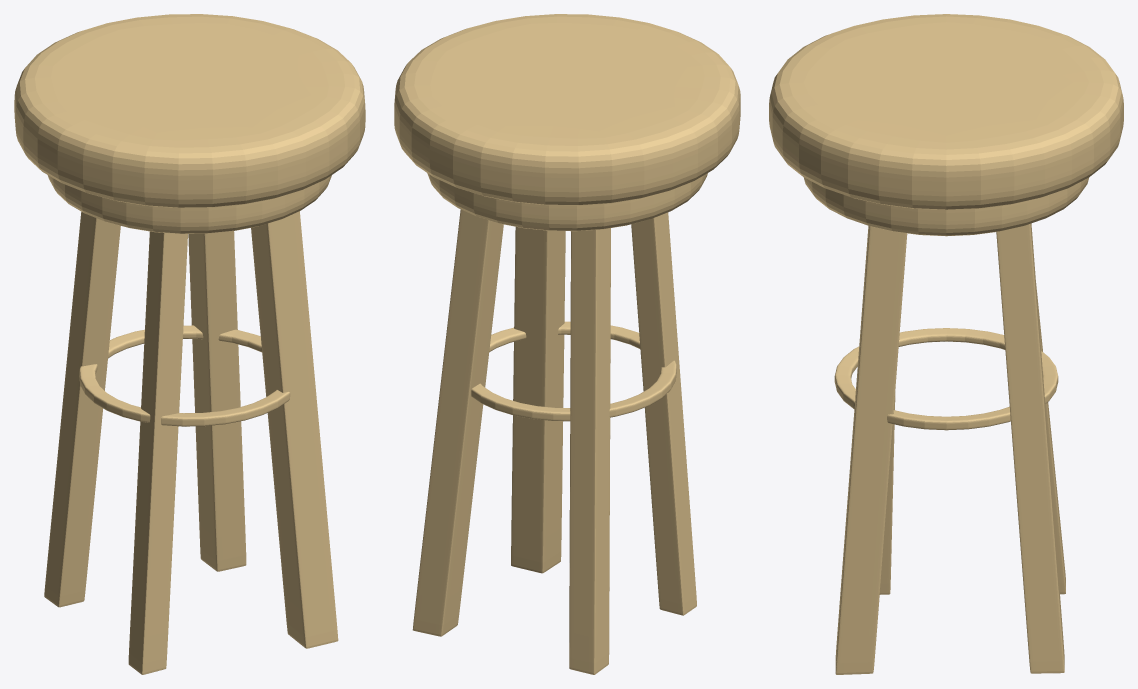
Rendered from chair04.fbx.
The picture shows the model from 3 angles, left to right: view 1: azimuth 30°, elevation 25°; view 2: azimuth 150°, elevation 25°; view 3: azimuth 270°, elevation 25°; orthographic projection. The views are drawn at different scales.
Visible parts, largest first — view 1: Cylinder.002, Cube.012, Cube.013, Cube.010, Cube.011, Cylinder.003, Cylinder.004; view 2: Cylinder.002, Cube.011, Cube.010, Cube.012, Cube.013, Cylinder.003, Cylinder.004; view 3: Cylinder.002, Cube.012, Cube.011, Cylinder.003, Cylinder.004, Cube.010, Cube.013.
Part boxes in pixels (bbox=[...]): Cylinder.002: bbox=[14, 14, 365, 207]; Cube.012: bbox=[251, 211, 338, 648]; Cube.013: bbox=[128, 231, 187, 674]; Cube.010: bbox=[44, 212, 120, 607]; Cube.011: bbox=[188, 231, 246, 571]; Cylinder.003: bbox=[47, 175, 331, 233]; Cylinder.004: bbox=[79, 325, 290, 426]; Cylinder.002: bbox=[394, 14, 740, 205]; Cube.011: bbox=[412, 209, 503, 636]; Cube.010: bbox=[569, 228, 610, 674]; Cube.012: bbox=[511, 227, 565, 573]; Cube.013: bbox=[631, 212, 696, 615]; Cylinder.003: bbox=[427, 173, 707, 231]; Cylinder.004: bbox=[471, 321, 676, 421]; Cylinder.002: bbox=[769, 14, 1123, 209]; Cube.012: bbox=[835, 226, 907, 674]; Cube.011: bbox=[996, 223, 1064, 673]; Cylinder.003: bbox=[804, 177, 1088, 236]; Cylinder.004: bbox=[834, 328, 1058, 430]; Cube.010: bbox=[1036, 283, 1065, 594]; Cube.013: bbox=[879, 393, 895, 594].
Bounding box in the file's own units: 106 × 181 × 106.
